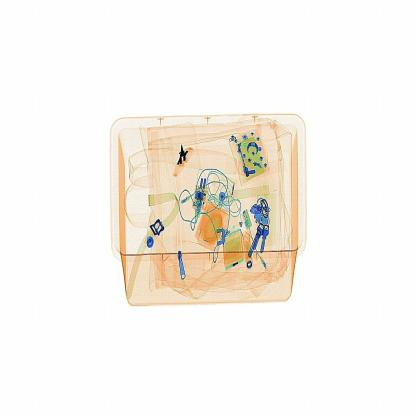gun: (160, 135, 204, 191)
